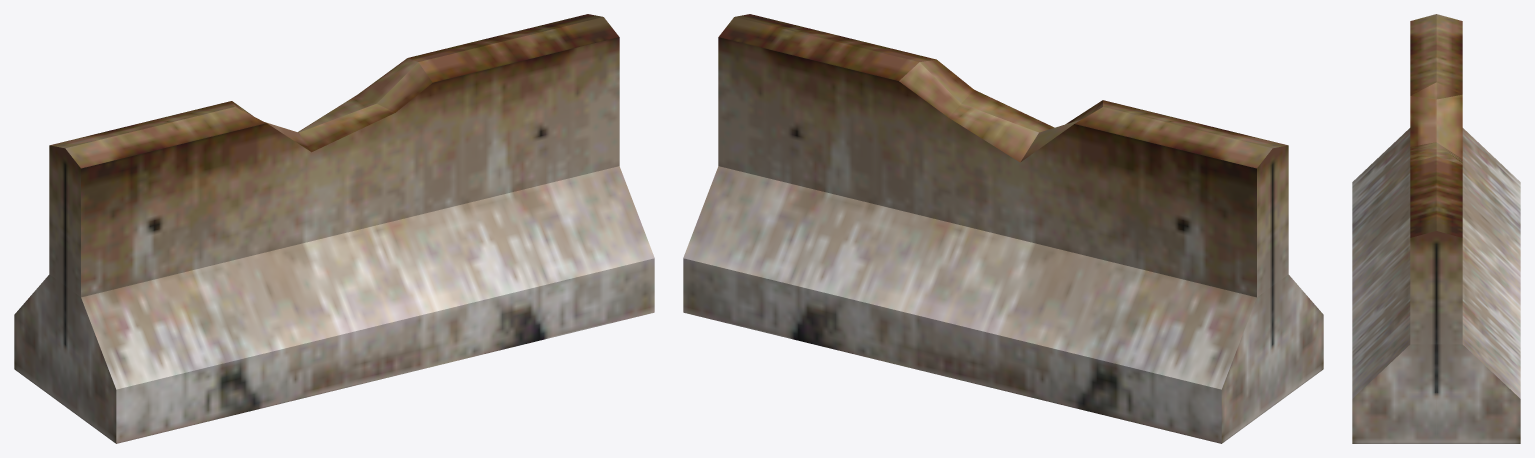
Rendered from Urban_JerseyBarrierBrokenCenterDirty_Model.fbx.
3 views of the same model, side by side, from view 1: azimuth 30°, elevation 25°; view 2: azimuth 150°, elevation 25°; view 3: azimuth 270°, elevation 25° (orthographic). The views are drawn at different scales.
Parts seen in each view (by area): view 1: Urban_JerseyBarrierBrokenCenterDirty_Mesh; view 2: Urban_JerseyBarrierBrokenCenterDirty_Mesh; view 3: Urban_JerseyBarrierBrokenCenterDirty_Mesh.
Boxes of the visible parts, box(x1,y1,x2,y2) form: Urban_JerseyBarrierBrokenCenterDirty_Mesh: box(14, 14, 654, 443); Urban_JerseyBarrierBrokenCenterDirty_Mesh: box(683, 14, 1323, 443); Urban_JerseyBarrierBrokenCenterDirty_Mesh: box(1352, 14, 1520, 443).
Bounding box in the file's own units: 2.48 × 1.14 × 0.8144.
